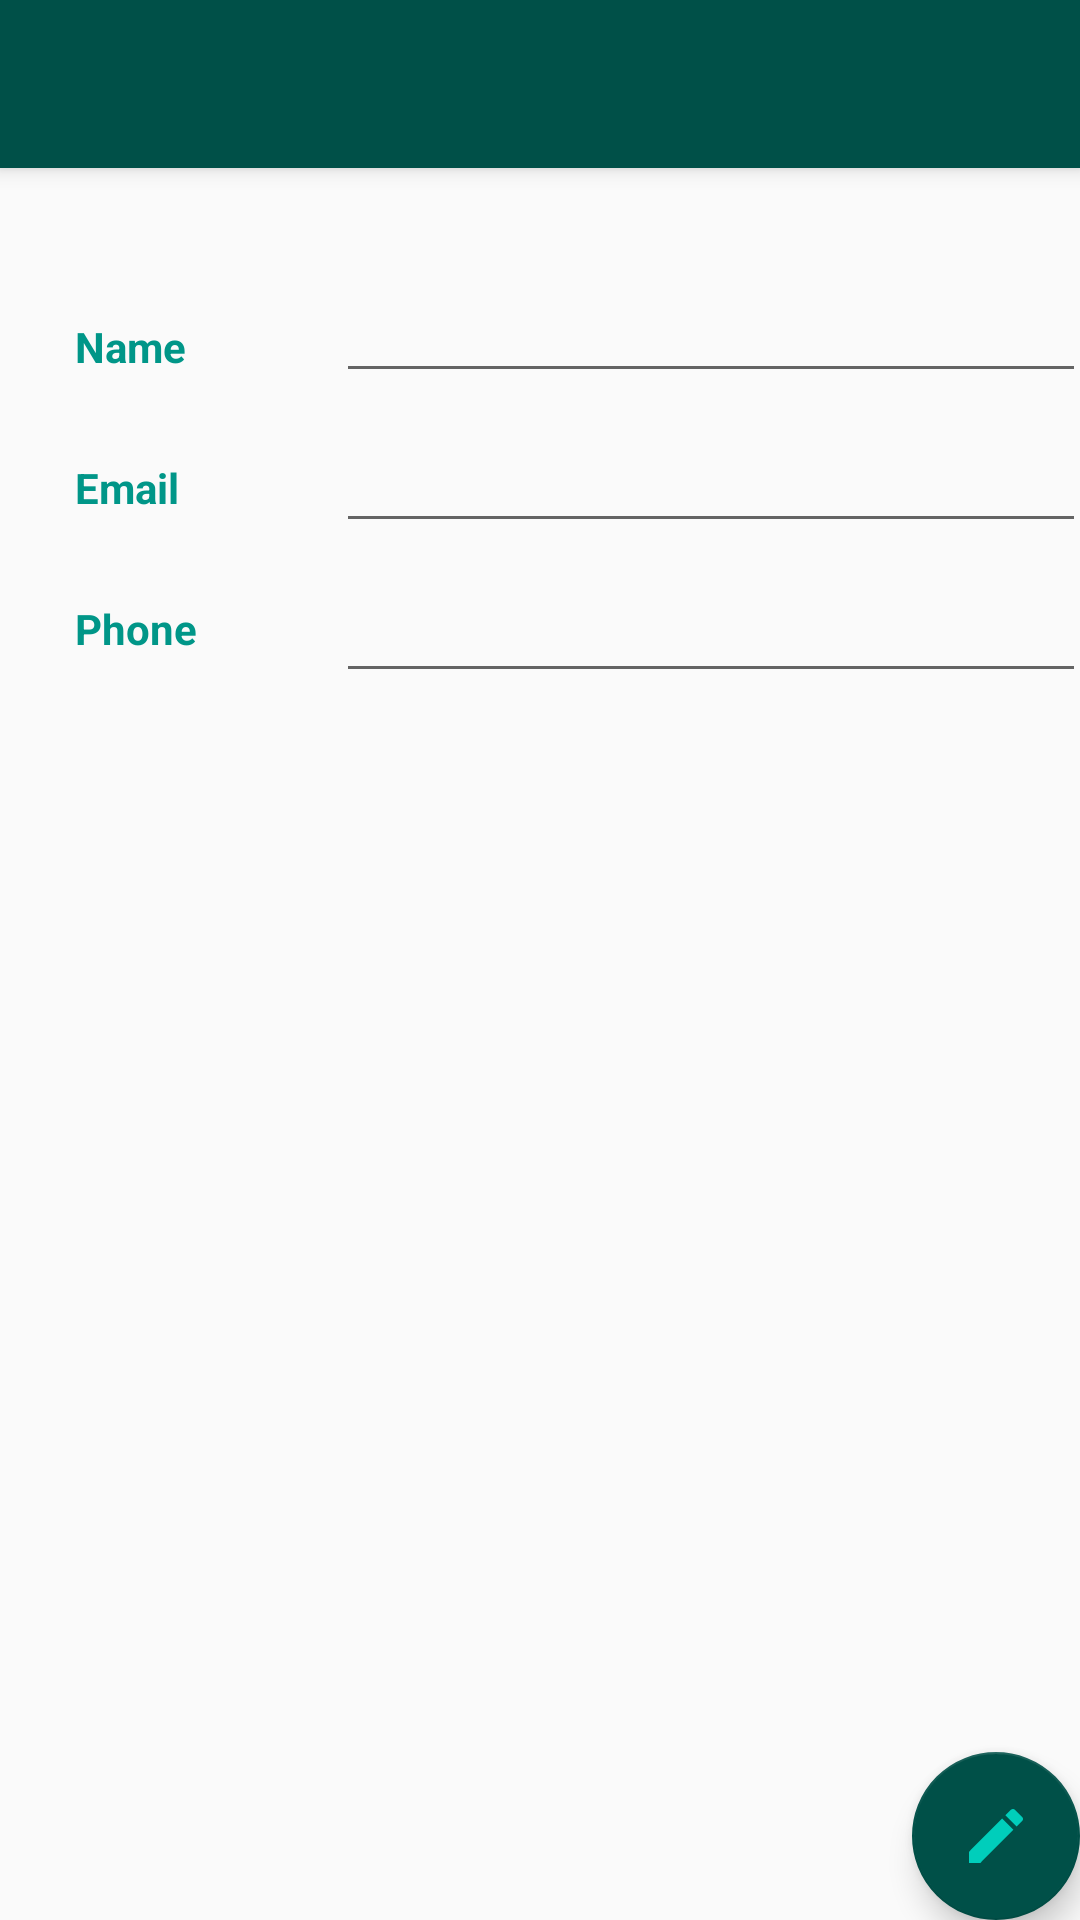

Locate icon controls on the screen. Image size 1080px x 1920px, boxes as (x1, y1, x2, y2).
edit: (912, 1752, 1080, 1920)
